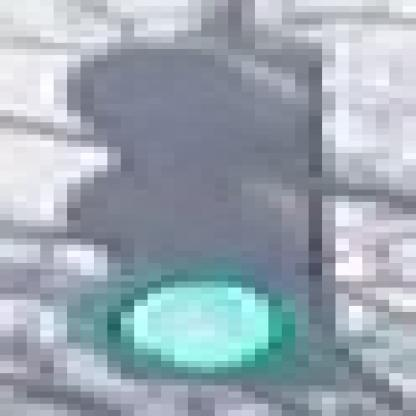Green Light: (65, 37, 335, 387)
